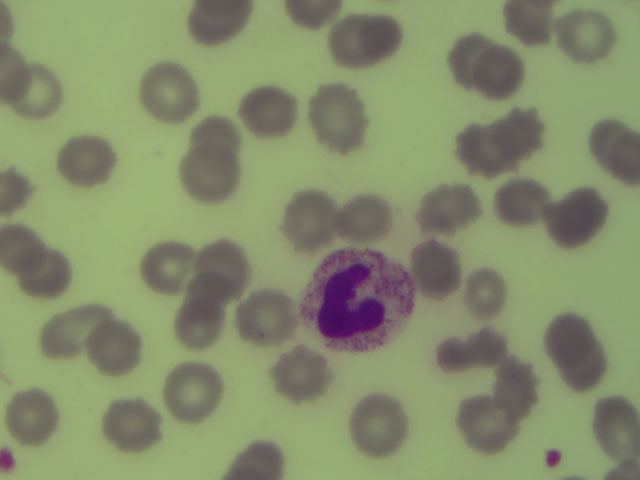Platelets: (1, 446, 17, 472), (545, 446, 563, 468)
RBC: (309, 87, 370, 157), (350, 390, 410, 456), (457, 395, 520, 454), (37, 308, 113, 356), (169, 361, 226, 422), (547, 192, 608, 249), (237, 82, 299, 138), (141, 65, 200, 122), (238, 295, 302, 346), (10, 387, 61, 451), (58, 135, 119, 187), (284, 189, 335, 251), (276, 345, 332, 401), (101, 401, 161, 453), (413, 235, 462, 297), (596, 393, 640, 462), (565, 15, 622, 67), (340, 193, 393, 247), (447, 34, 496, 91), (187, 146, 240, 198), (542, 313, 593, 367), (142, 240, 194, 292), (19, 248, 73, 298), (461, 127, 511, 181), (91, 323, 143, 374), (424, 185, 475, 233), (199, 243, 252, 289), (4, 220, 46, 278), (478, 48, 525, 97), (233, 439, 287, 480), (498, 114, 545, 160), (178, 301, 223, 349), (24, 63, 64, 117), (496, 180, 545, 224), (566, 345, 612, 387), (469, 268, 507, 318), (188, 9, 237, 47), (503, 5, 552, 42), (335, 20, 369, 72), (501, 359, 535, 410), (360, 19, 405, 56), (606, 136, 640, 184), (185, 272, 234, 305), (282, 2, 344, 28), (4, 49, 32, 103), (3, 169, 33, 215), (474, 327, 509, 365), (198, 1, 252, 25), (593, 114, 630, 146), (440, 334, 466, 370), (1, 4, 16, 45)
WBC: (301, 250, 416, 349)
